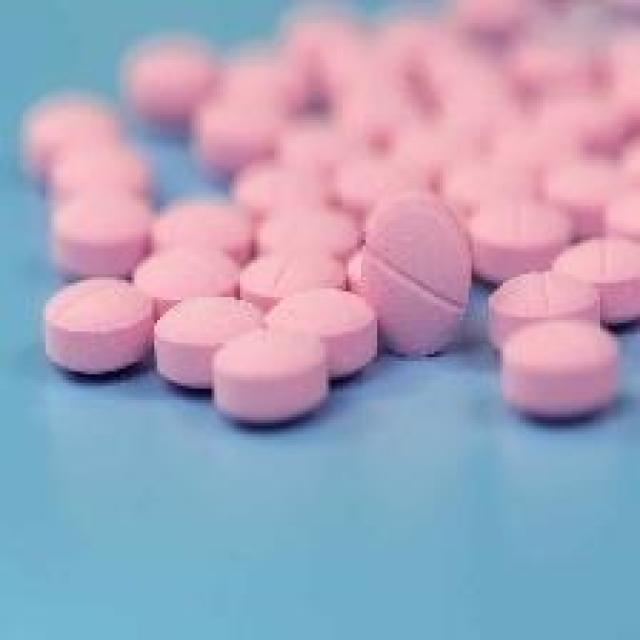Medicine: (10, 0, 640, 485)
